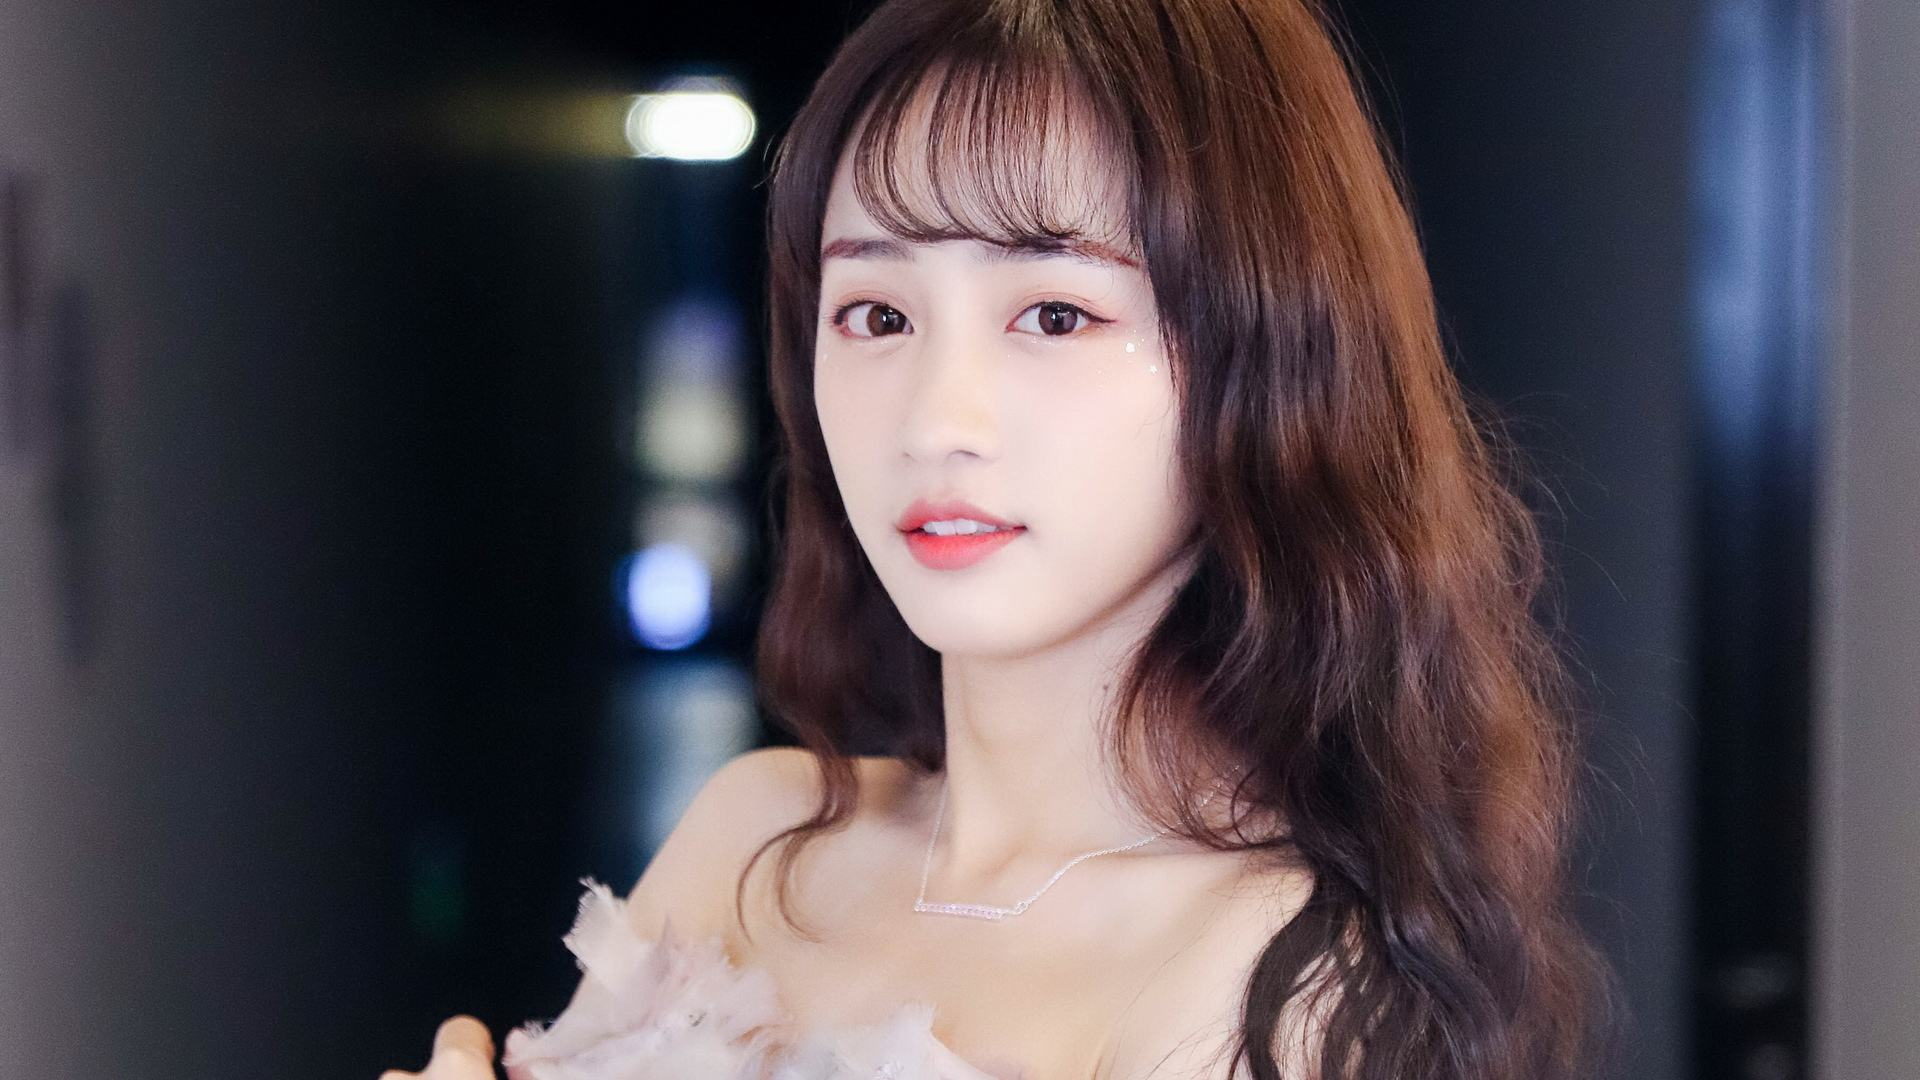person: (728, 34, 1490, 1020)
